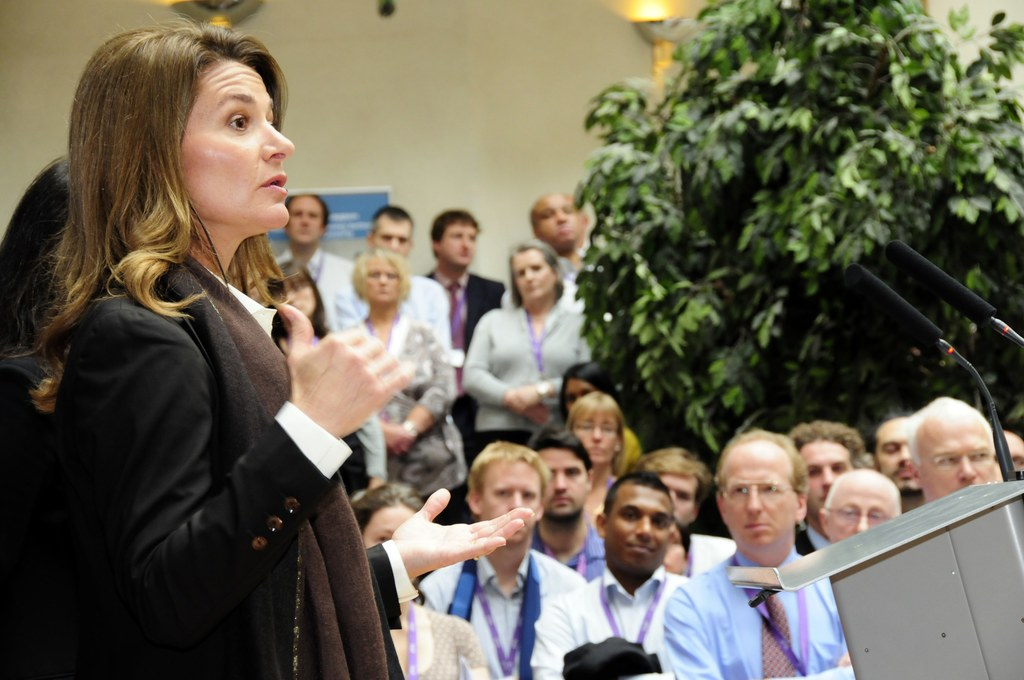Human-face: (274, 193, 1023, 570), (180, 59, 296, 229), (717, 444, 796, 549), (919, 410, 994, 499), (602, 480, 673, 567), (481, 461, 541, 538), (800, 441, 855, 519), (533, 448, 584, 517), (874, 421, 922, 494), (826, 483, 888, 539), (509, 245, 556, 304), (533, 193, 584, 240), (572, 411, 619, 462), (658, 474, 699, 525), (436, 223, 479, 268), (363, 511, 413, 549), (363, 254, 399, 303), (285, 194, 323, 240), (368, 216, 410, 257), (275, 282, 316, 318), (994, 433, 1023, 478), (562, 376, 595, 411)
